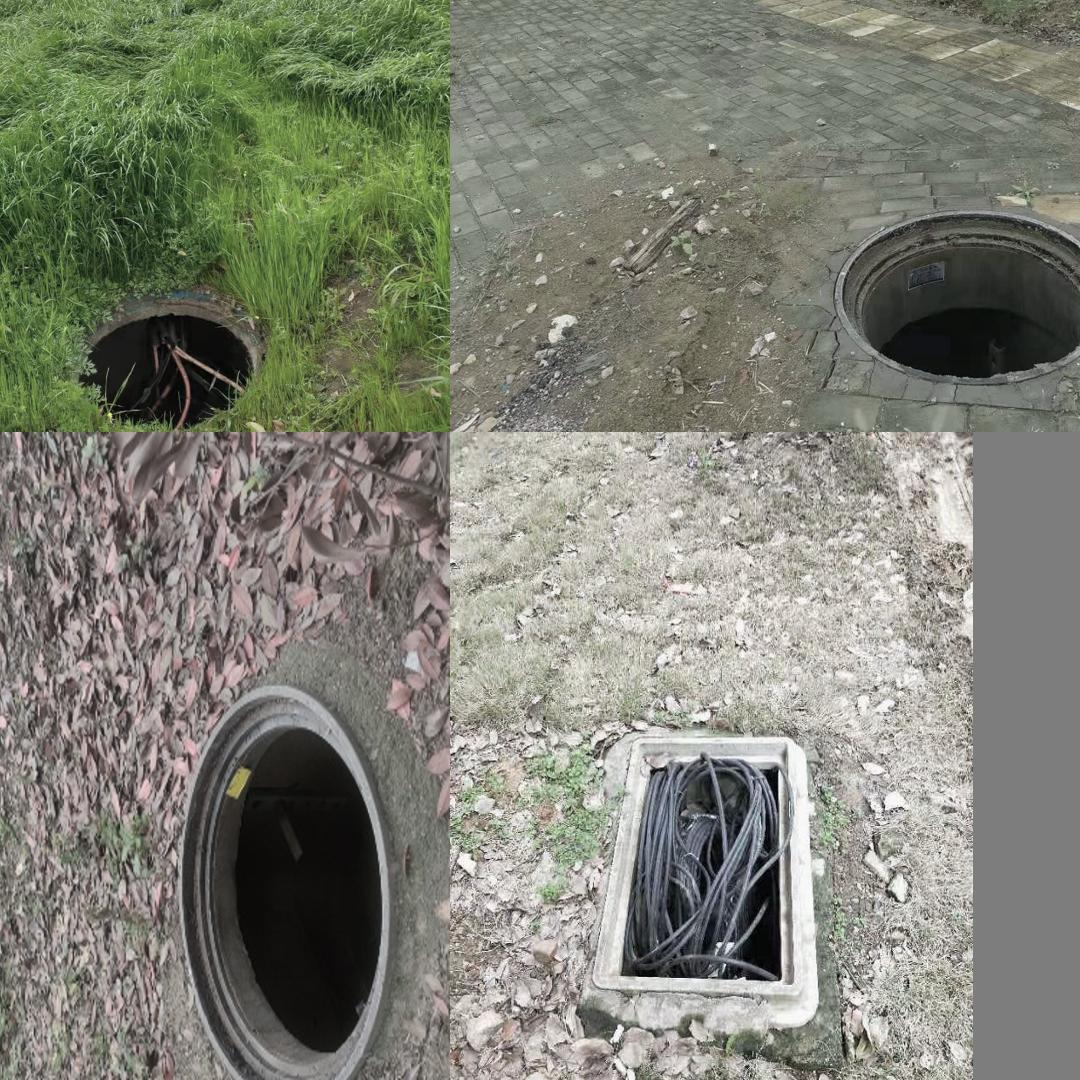lose: (177, 681, 390, 1080), (579, 710, 831, 1041), (835, 208, 1080, 384), (73, 297, 272, 432)
